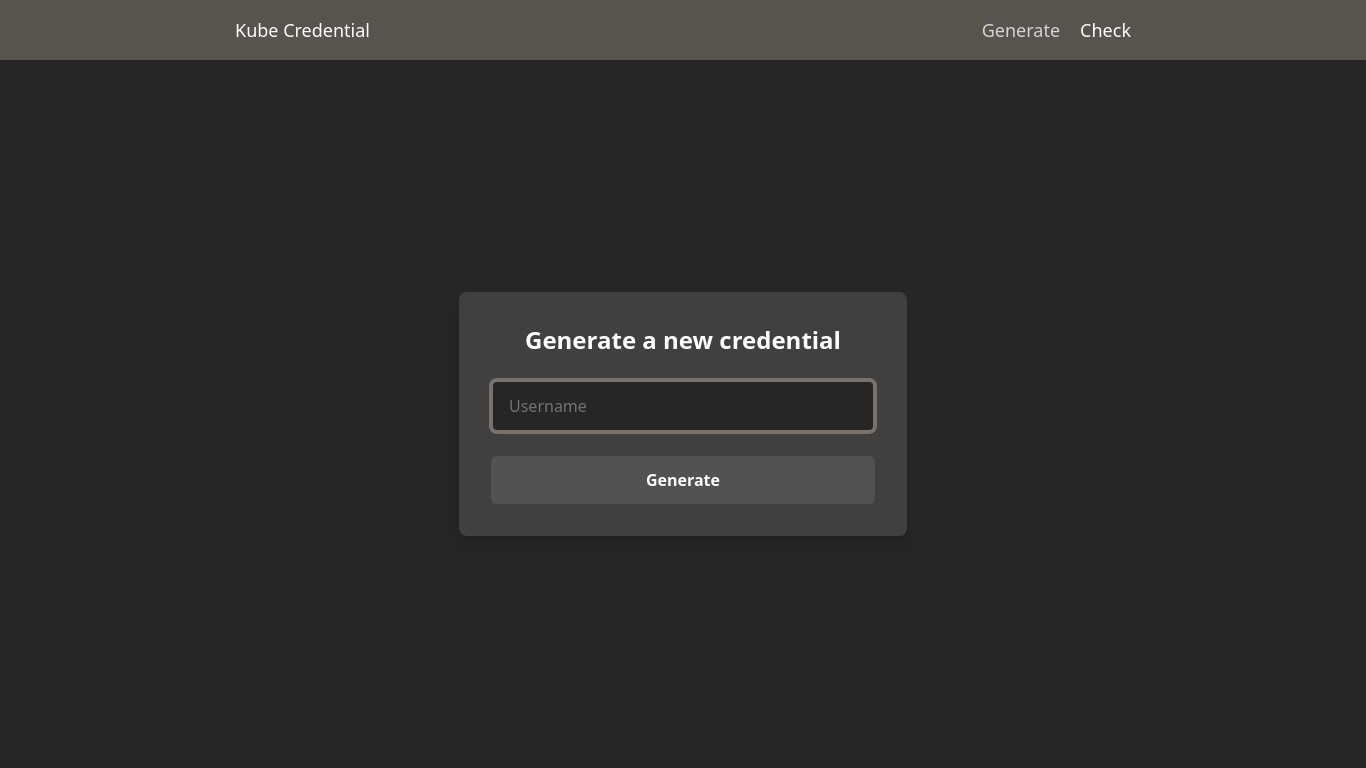
Test case: GeneratePage › should show a modal with credential details when a new generation is successful
In the field with placeholder "Username": (683, 406) x1=491 y1=380 x2=875 y2=432, type "test-user"
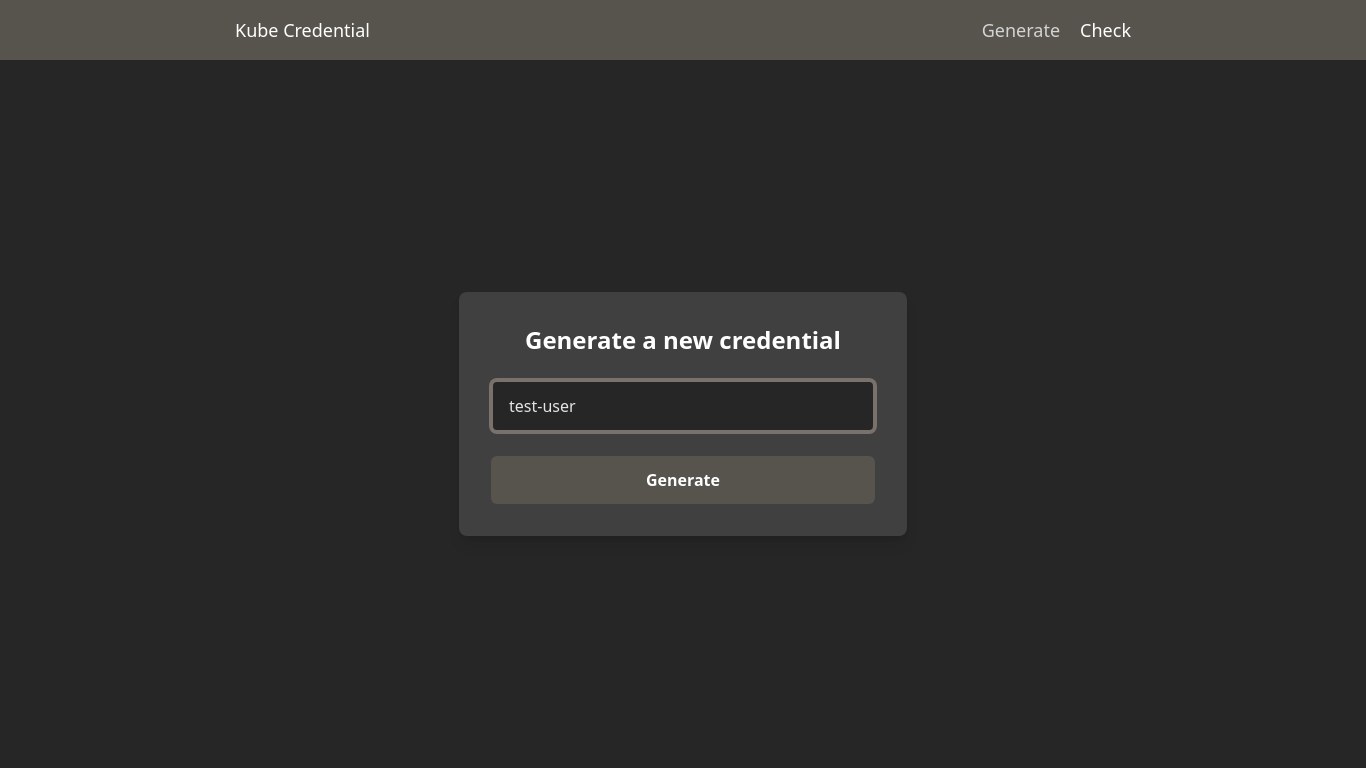
Click the button "Generate": click(683, 480) x1=491 y1=456 x2=875 y2=504
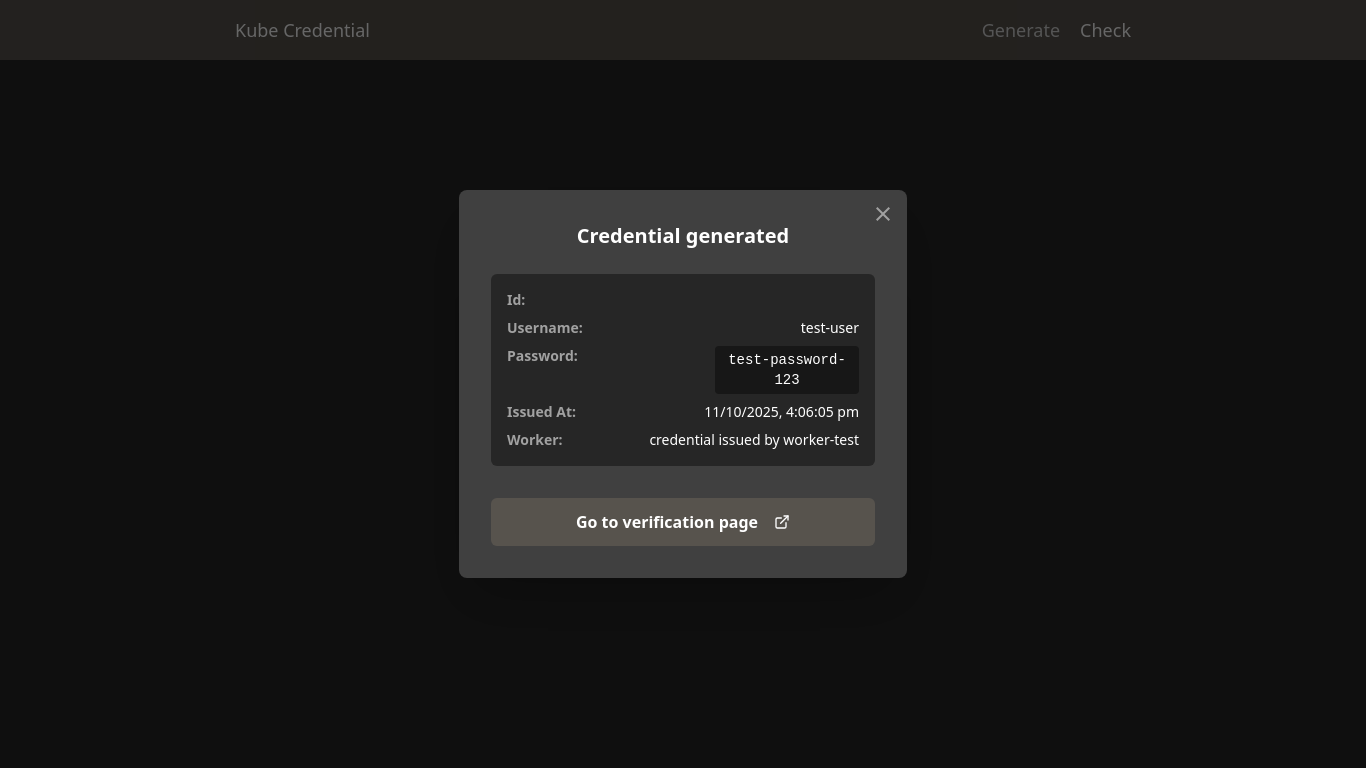
Now the button "Generate" is disabled, box x1=491 y1=456 x2=875 y2=504
Now the heading "Credential generated" is shown, box x1=577 y1=222 x2=789 y2=249
Now the text "test-user" is shown, box x1=801 y1=318 x2=859 y2=338
